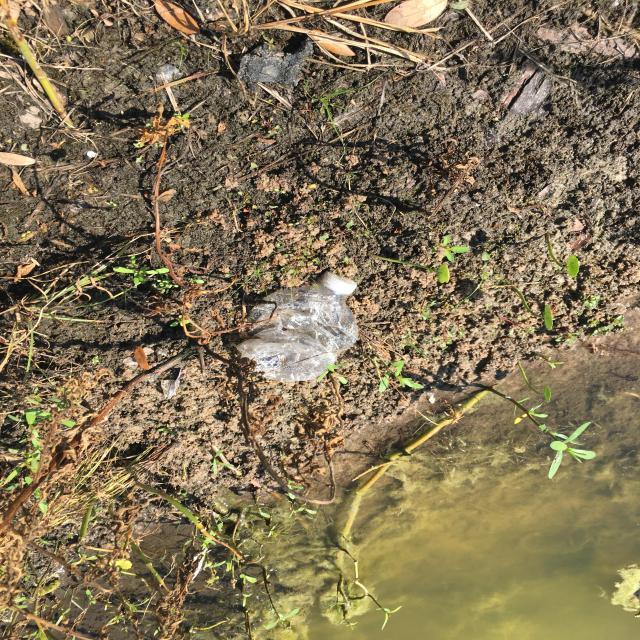litter: (231, 274, 362, 386)
